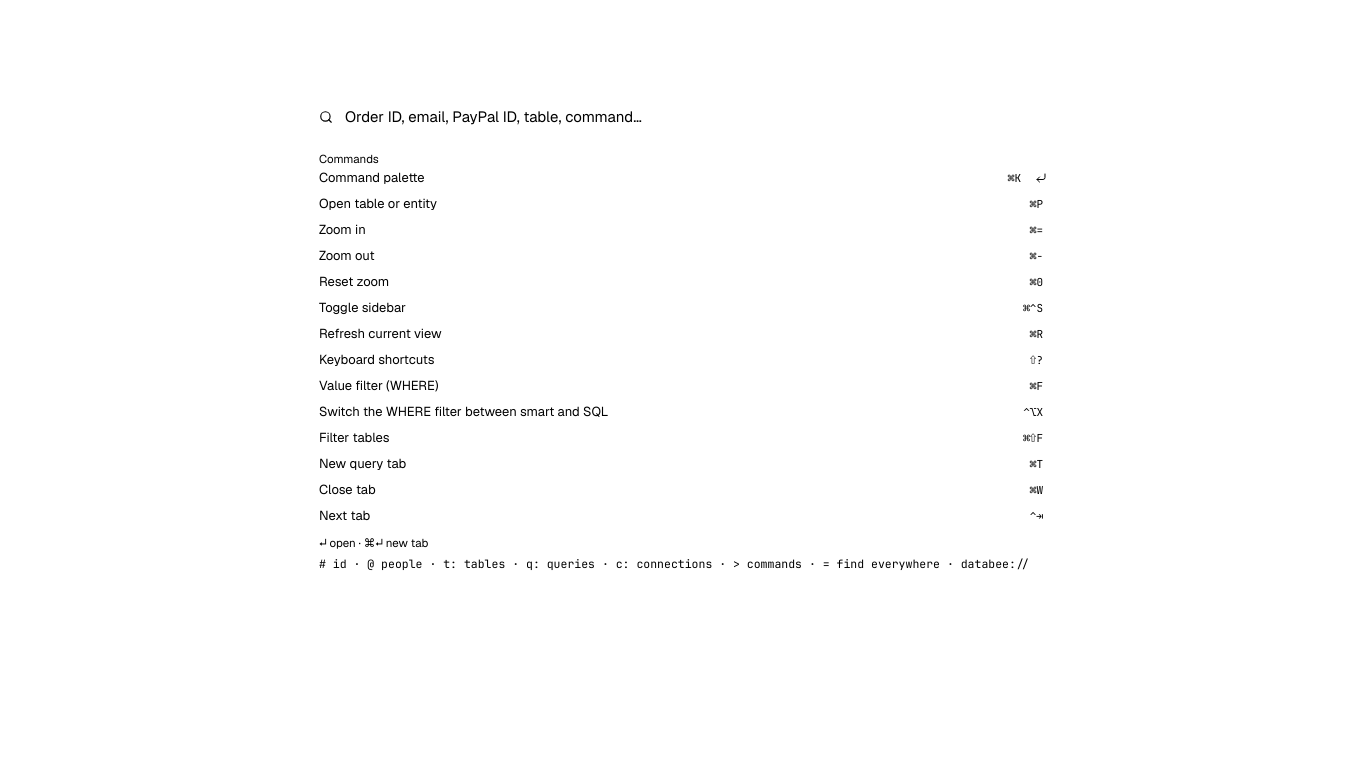
Test: Switch connection (⌘⇧P) › reopens in switch mode when run from the palette's commands
Step 1. Type ">Switch connection" into the field named "Search everything" → (695, 117), box x1=343 y1=106 x2=1047 y2=127
Then press Enter
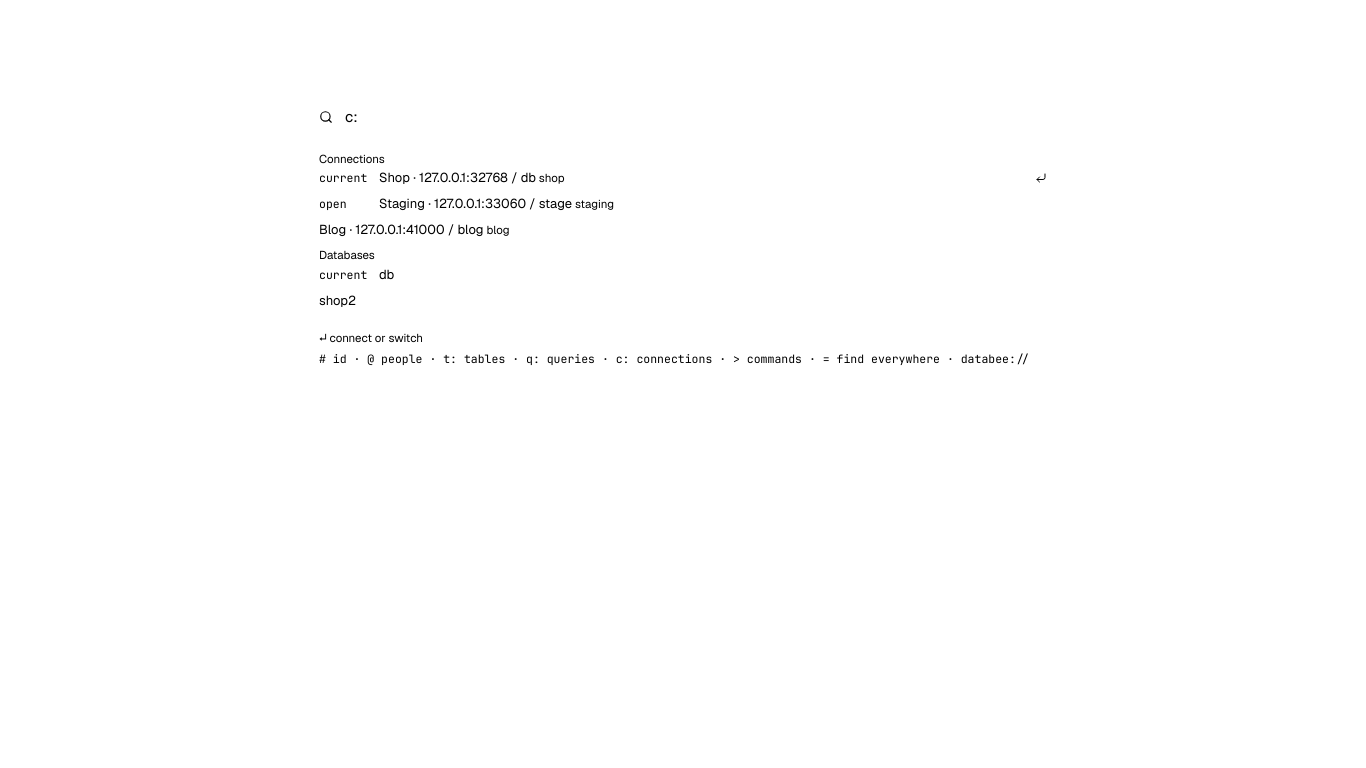
Expected: the field named "Search everything" holds "c:", x1=343 y1=106 x2=1047 y2=127
